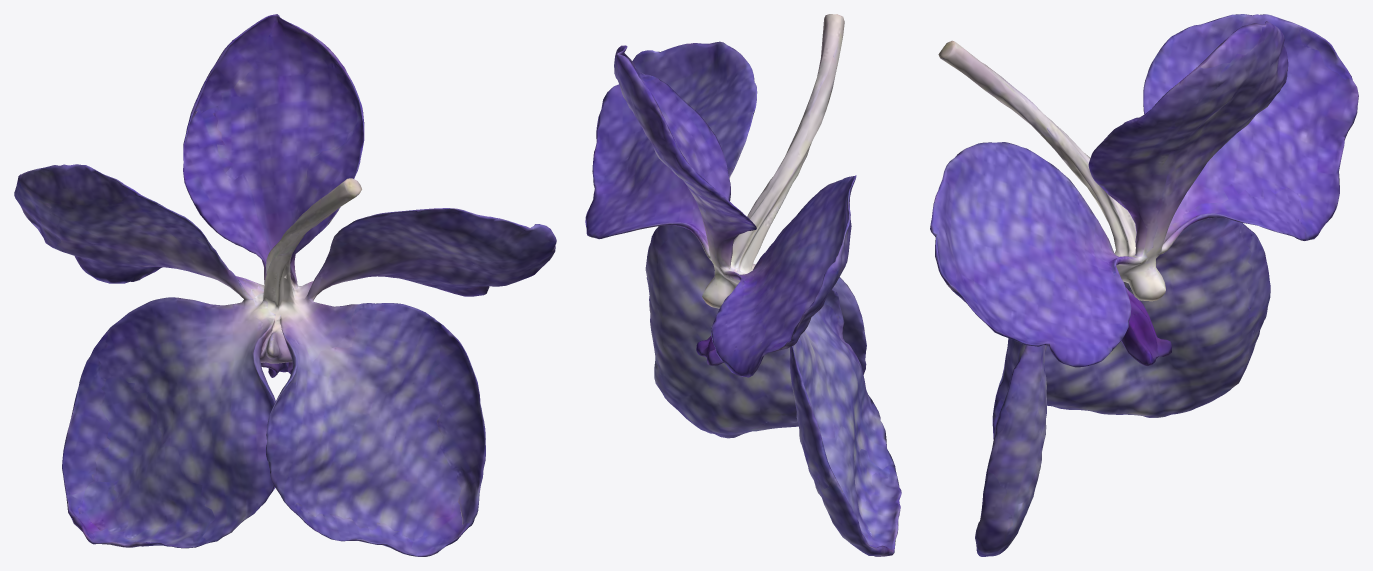
Rendered from vanda-preview.glb.
3 renders of one model, left to right at view 1: azimuth 30°, elevation 25°; view 2: azimuth 150°, elevation 25°; view 3: azimuth 270°, elevation 25°, orthographic. The views are drawn at different scales.
Size of the model in its own units: 0.0792 by 0.0916 by 0.0691.
1 material, 1 textured.
